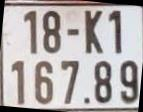-: (68, 29, 79, 35)
.: (84, 98, 89, 103)
1: (24, 11, 37, 53), (110, 10, 122, 54), (12, 61, 24, 104)
6: (35, 61, 53, 103)
7: (60, 61, 78, 103)
8: (43, 11, 60, 53), (95, 61, 111, 103)
9: (121, 61, 138, 103)
K: (86, 11, 103, 53)
